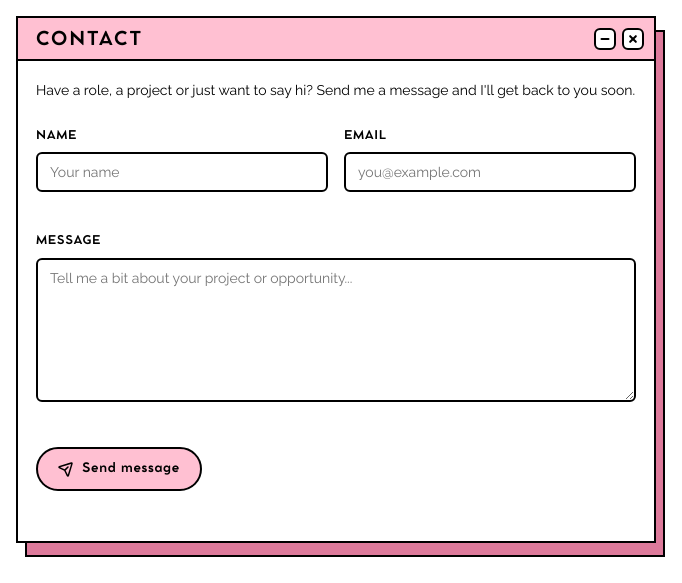
Scenario: Contact form › shows an error message when the request fails
In the field labelled "Name": (182, 172) [36,152,328,192], type "Jane Doe"
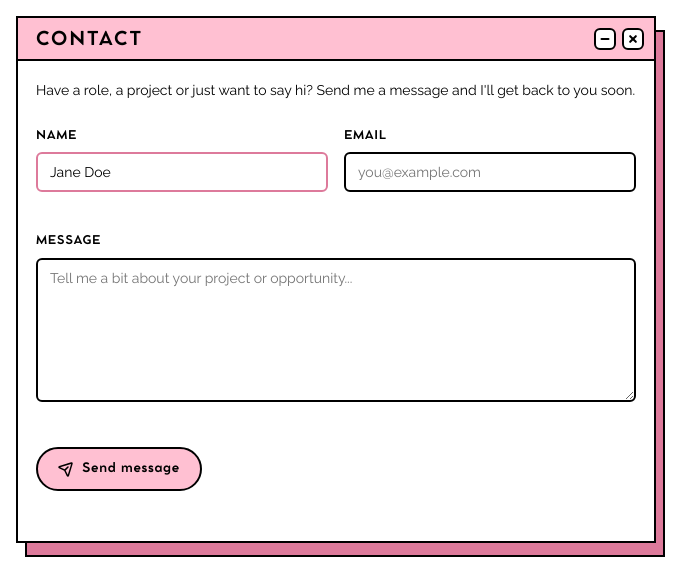
In the field labelled "Email": (490, 172) [344,152,636,192], type "jane@example.com"
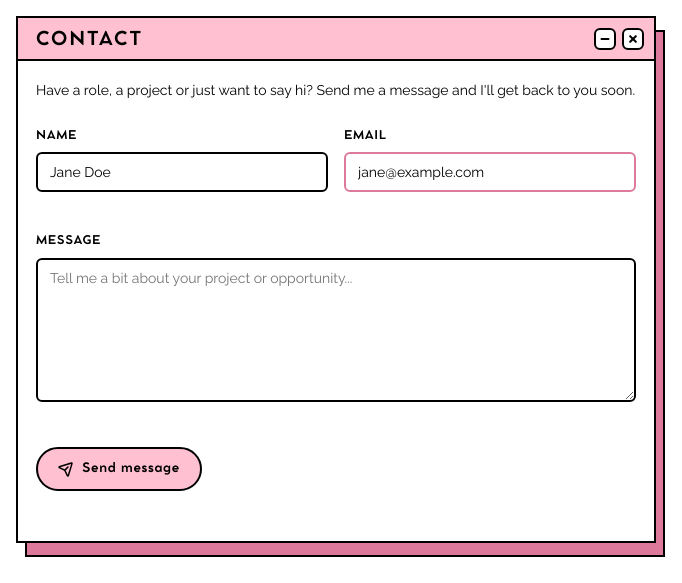
In the text box labelled "Message": (336, 330) [36,258,636,402], type "Hello there"
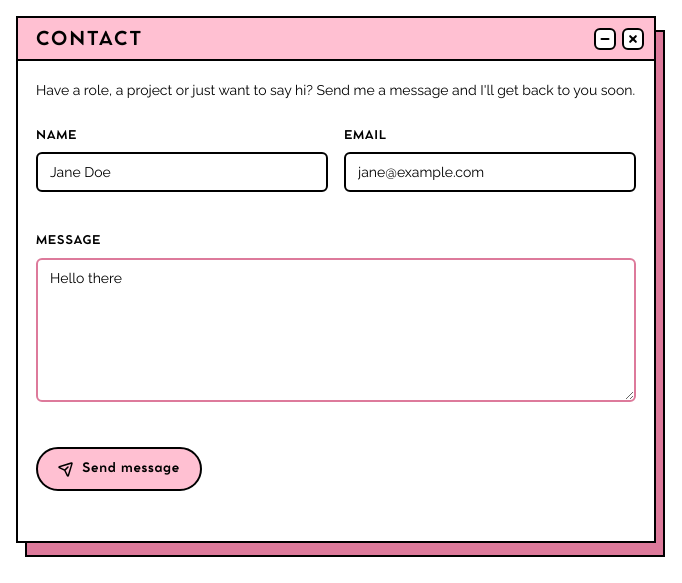
Click the button "Send message": click(119, 469) [36,447,202,491]
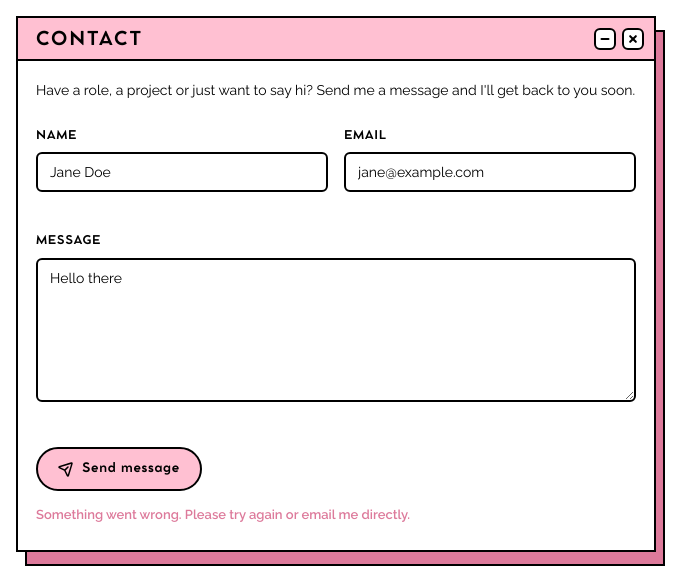
Expected: the text "Something went wrong. Please try again or email me directly." is shown, [36,507,410,522]
